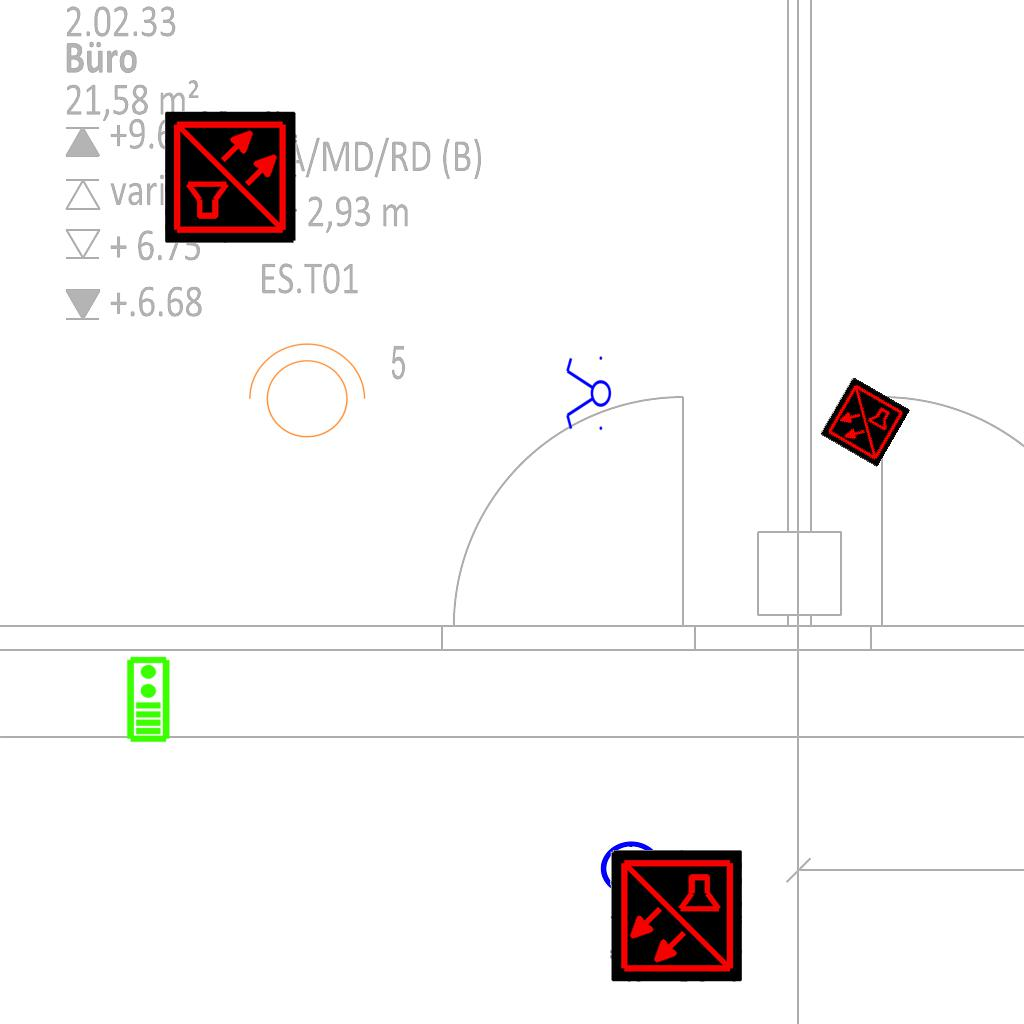Gegensprechanlage_mit_Video: (124, 655, 171, 743)
OKW_Multisensormelder_(Kombination_optischer_Rauch-Kahlenmonoxid_Waerme-Melder): (165, 111, 297, 243), (610, 850, 742, 982), (819, 376, 911, 468)
Scheinwerfer_fuer_Alarmbeleuchtung: (238, 338, 370, 450)
Serienschalter: (564, 352, 612, 436)
Taster_beleuchtet: (598, 836, 664, 902)
